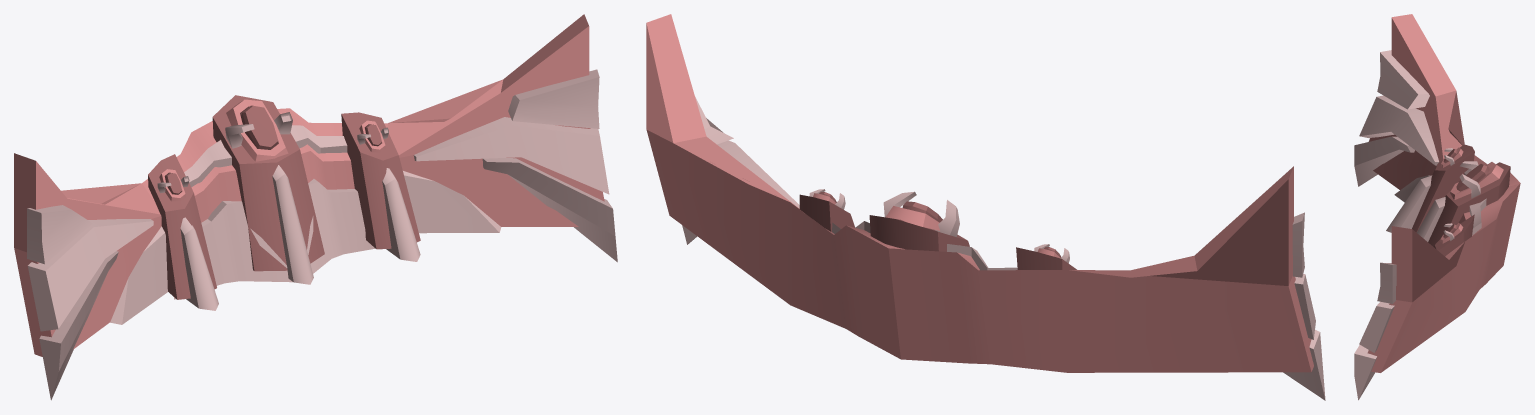
File: tablero_v02.fbx
3 renders of one model, left to right at view 1: azimuth 30°, elevation 25°; view 2: azimuth 150°, elevation 25°; view 3: azimuth 270°, elevation 25°, orthographic. The views are drawn at different scales.
Visible parts, largest first — view 1: base, deco, det (×3), boce, bod2, bod1, pCube5, pCube4, boce1, boce2, boce3, borde (+1 smaller); view 2: base, deco, boce, det (×2), bod2, bod1, borde; view 3: base, deco, boce, bod1, boce3, det (×2), bod2, boce1, borde, push, pCube4.
Part boxes in pixels (left/top/right/bottom): base: left=14, top=14, right=604, bottom=356; deco: left=27, top=69, right=617, bottom=400; det (×3): left=174, top=112, right=374, bottom=299; boce: left=212, top=95, right=324, bottom=271; bod2: left=341, top=112, right=420, bottom=249; bod1: left=148, top=154, right=216, bottom=299; pCube5: left=403, top=171, right=501, bottom=233; pCube4: left=110, top=226, right=167, bottom=324; boce1: left=272, top=165, right=313, bottom=284; boce2: left=382, top=168, right=420, bottom=261; boce3: left=180, top=217, right=218, bottom=310; borde: left=226, top=99, right=288, bottom=161; base: left=646, top=14, right=1313, bottom=372; deco: left=682, top=96, right=1325, bottom=400; boce: left=869, top=215, right=969, bottom=251; det (×2): left=832, top=191, right=1017, bottom=270; bod2: left=799, top=194, right=855, bottom=231; bod1: left=1016, top=247, right=1076, bottom=269; borde: left=886, top=206, right=939, bottom=230; base: left=1367, top=14, right=1520, bottom=372; deco: left=1354, top=50, right=1438, bottom=400; boce: left=1428, top=162, right=1510, bottom=246; bod1: left=1412, top=144, right=1474, bottom=232; boce3: left=1386, top=175, right=1432, bottom=232; det (×2): left=1459, top=161, right=1486, bottom=235; bod2: left=1434, top=214, right=1474, bottom=256; boce1: left=1416, top=197, right=1445, bottom=241; borde: left=1450, top=162, right=1503, bottom=200; push: left=1456, top=163, right=1489, bottom=191; pCube4: left=1394, top=175, right=1430, bottom=202.
Size of the model in its own units: 19.97 by 7.45 by 6.52.
